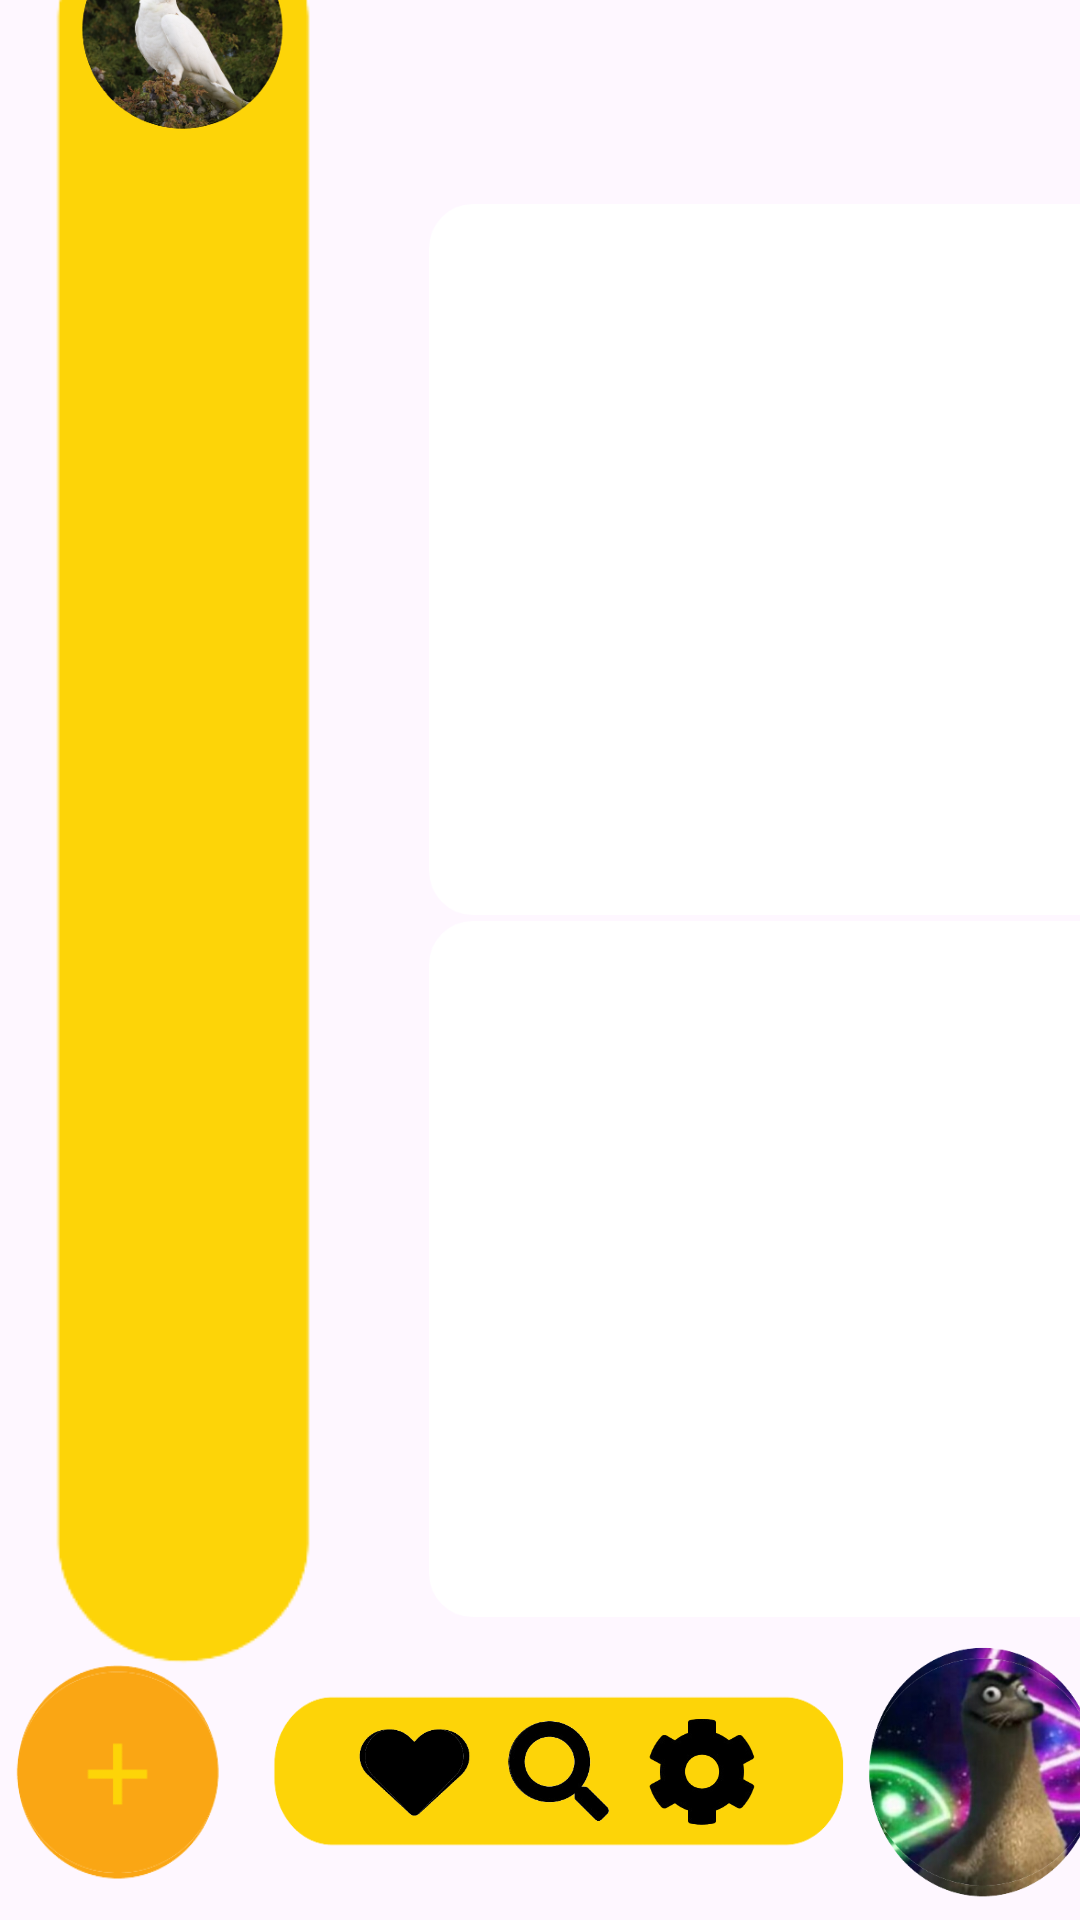

Locate icon controls on the screen. Image size 1080w x 1920h, boxes as box(x1, y1, x2, y2).
ajustes: box(649, 1719, 755, 1825)
buscar: box(508, 1721, 609, 1821)
